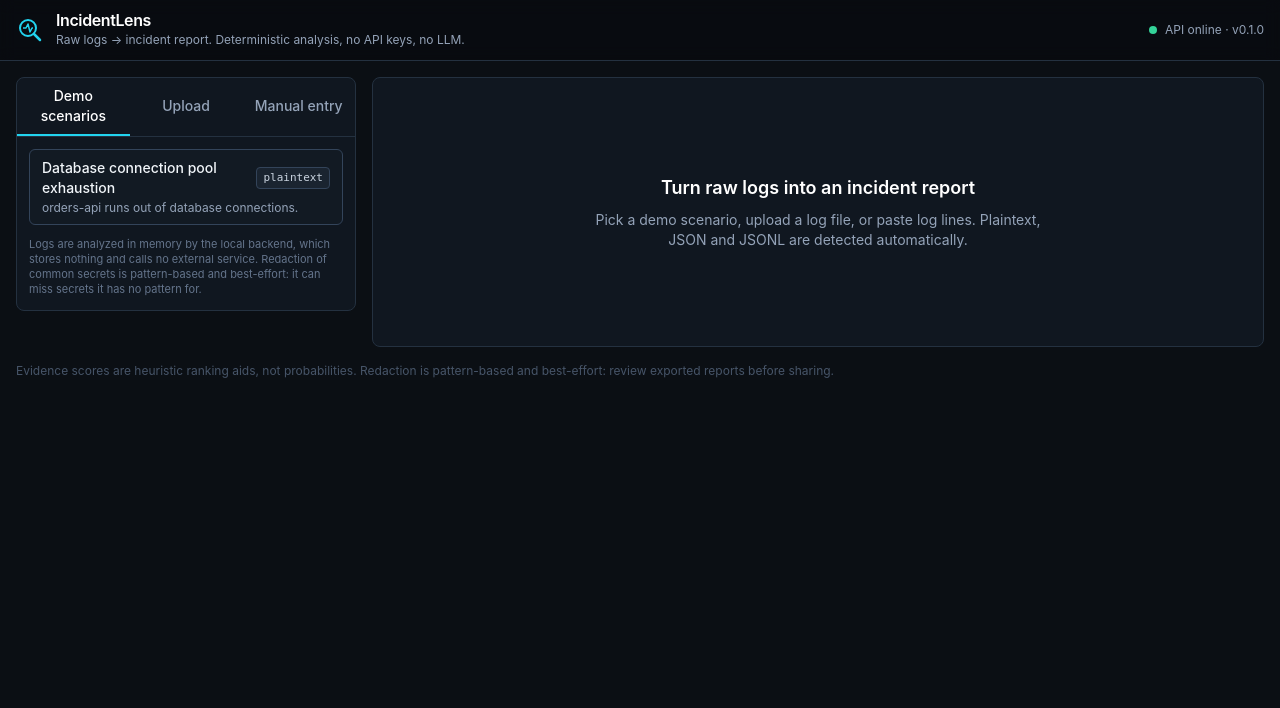
Test: App › analyzes pasted content and hides the expected-outcome card for non-demo input
This screenshot has width=1280, height=708.
Click the tab "Manual entry": point(299, 107) [242,78,355,136]
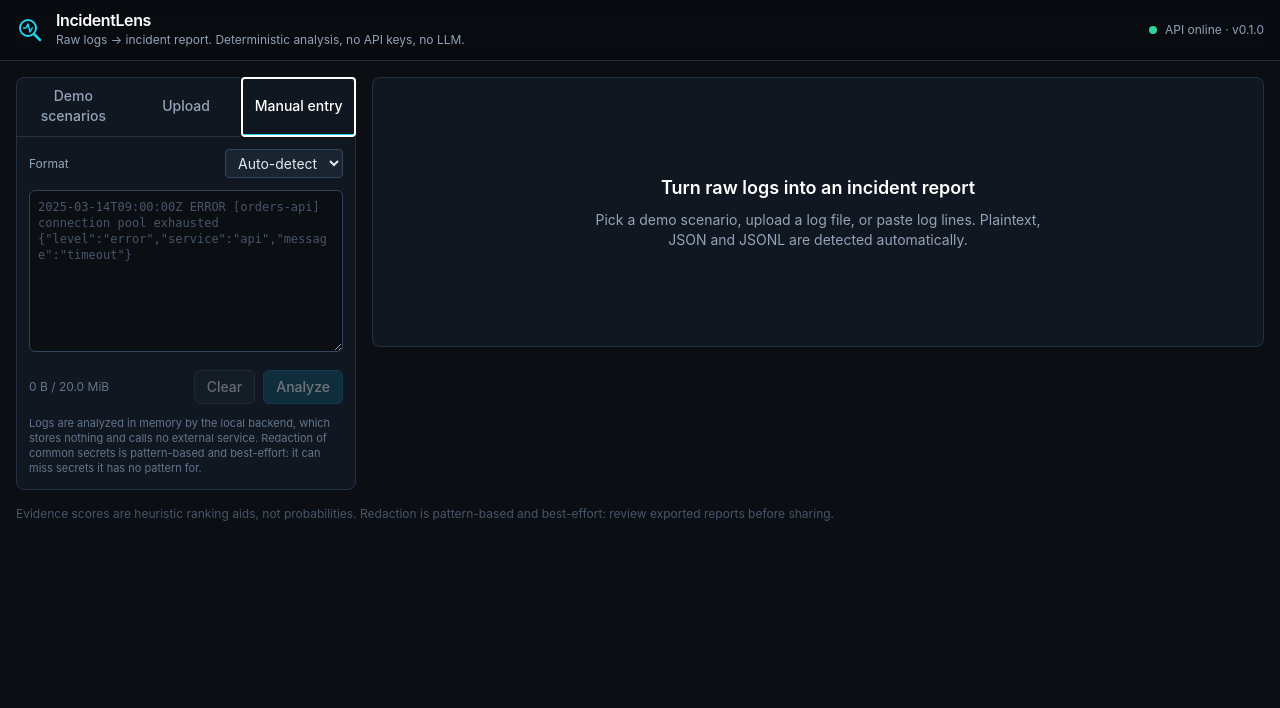
In the text box named "Log content": point(186, 271) [29,190,343,352], type "2025-03-14T09:00:00Z ERROR [ [a] boom"
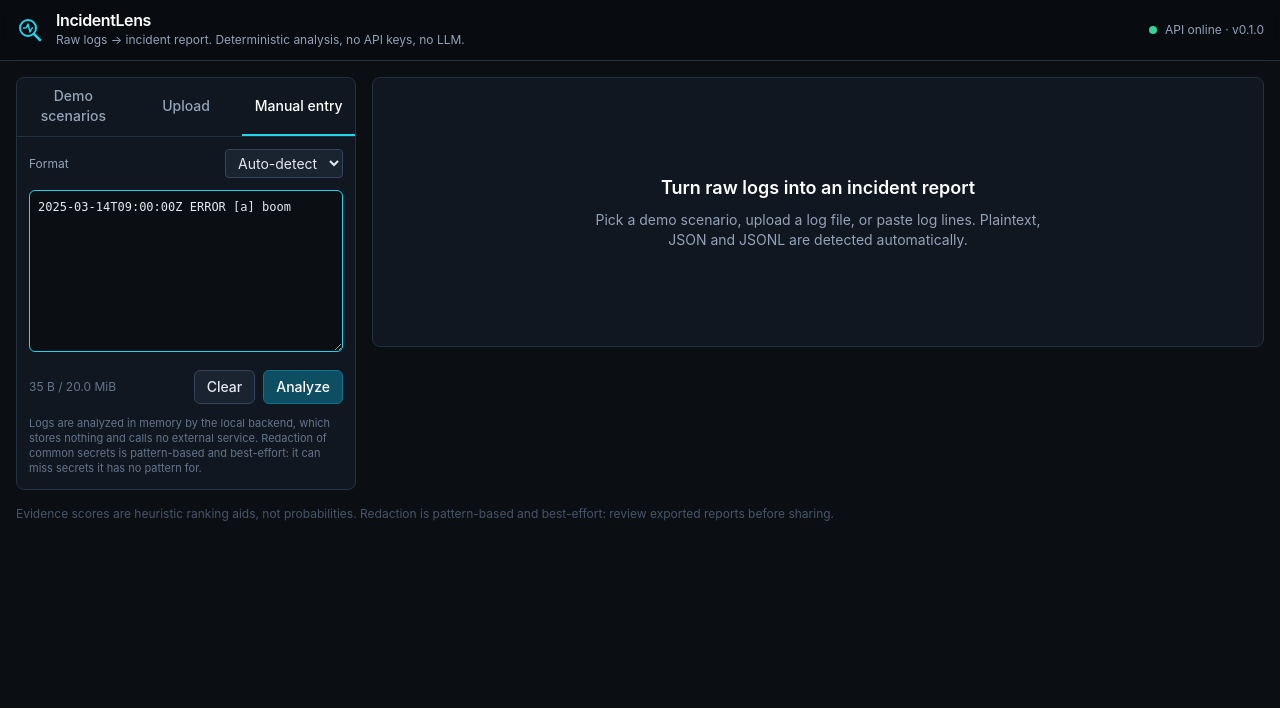
Click the button "Analyze": point(303, 387) [263,370,343,404]
(page scrolled)
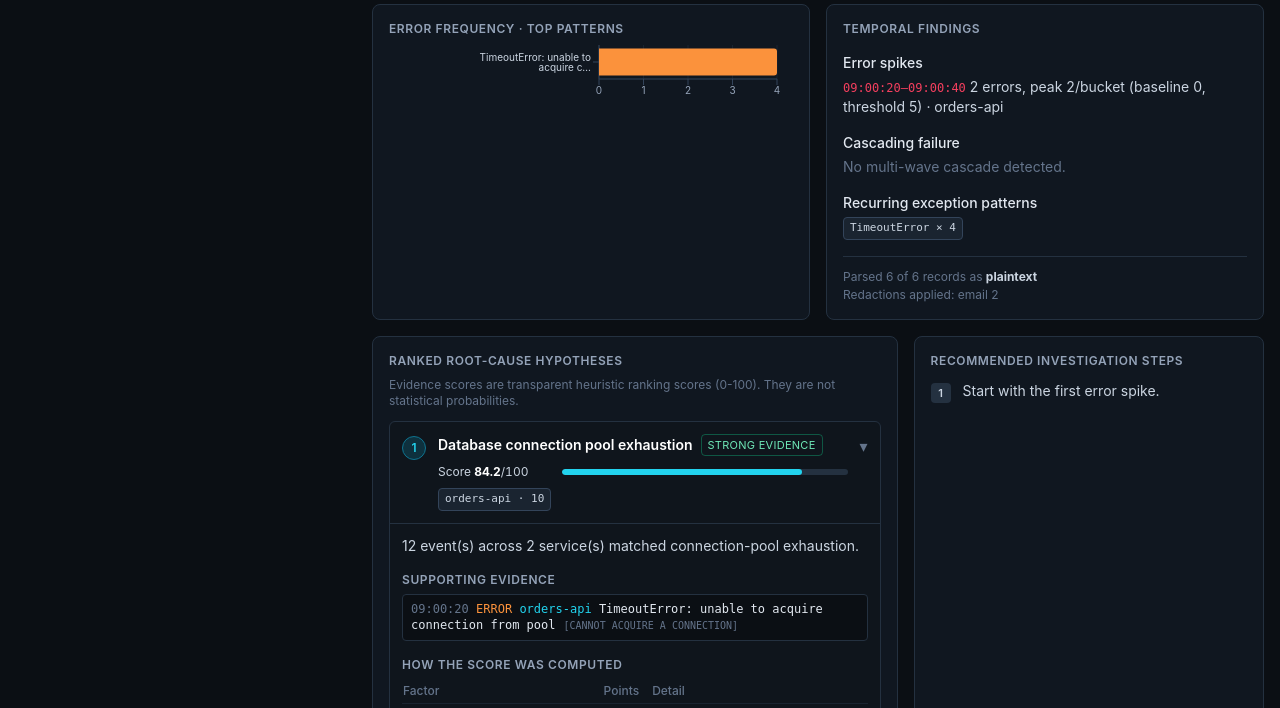
Result: the heading "Ranked root-cause hypotheses" is shown at [389,352,623,368]
